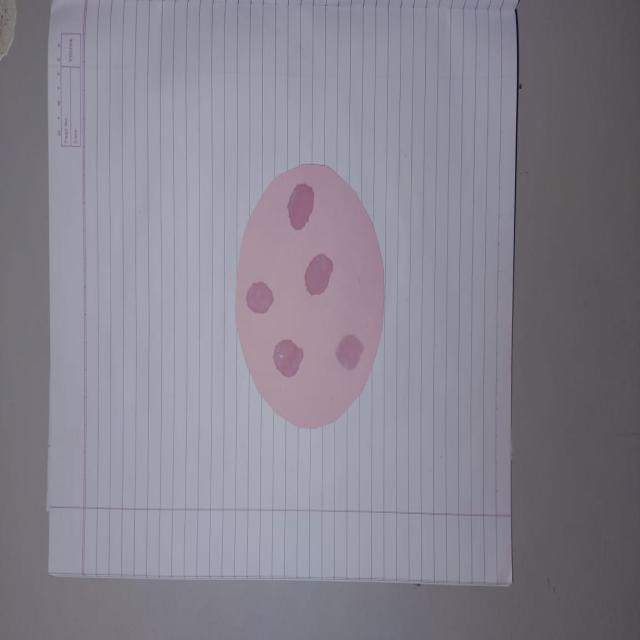BlueColor: (288, 184, 314, 230), (304, 254, 333, 295), (273, 340, 303, 377), (336, 334, 364, 370), (246, 281, 273, 313)
